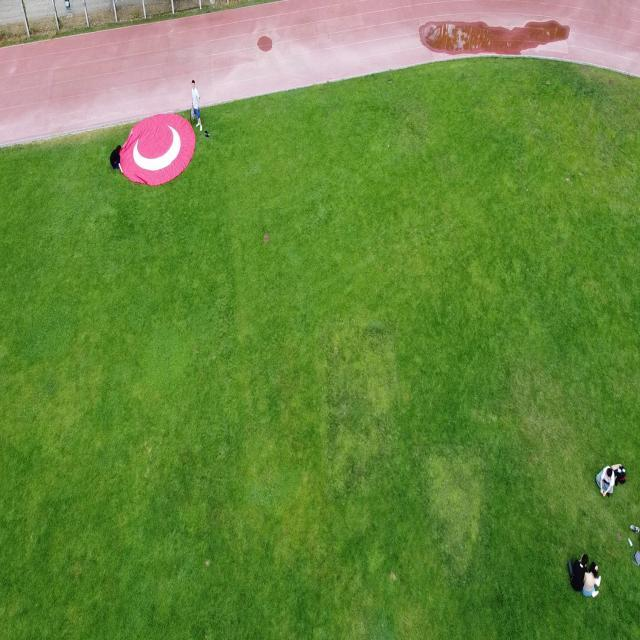vehicle: (118, 114, 196, 186), (568, 552, 588, 593), (582, 561, 601, 599), (598, 465, 618, 497), (191, 78, 201, 130), (110, 145, 122, 173)
